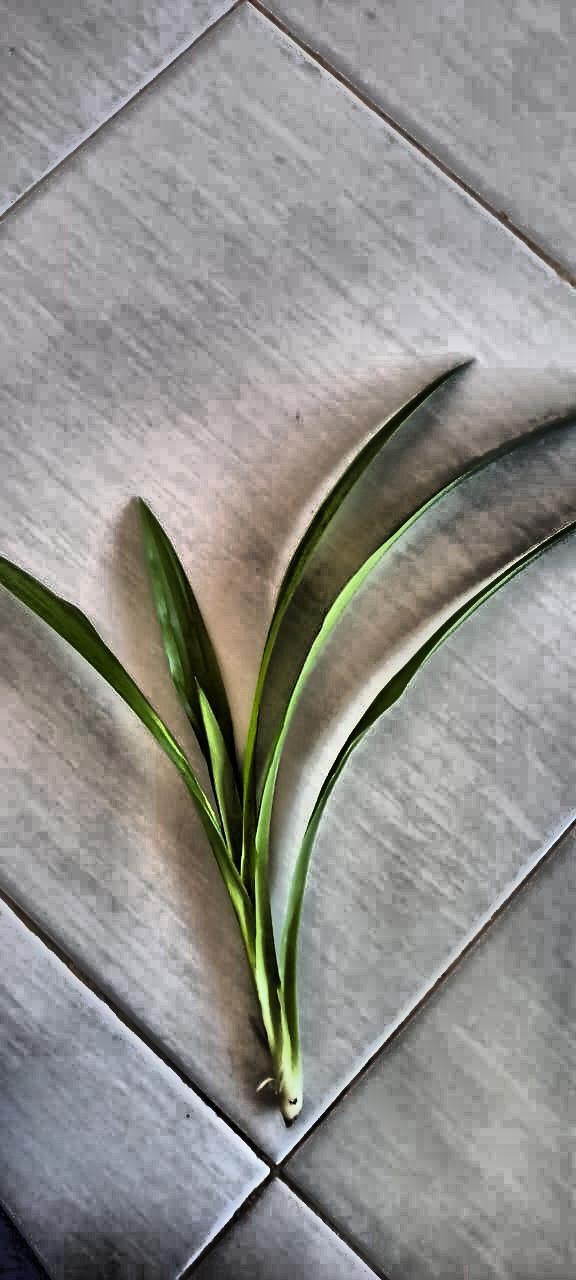daun pandan: (0, 366, 575, 1124)
